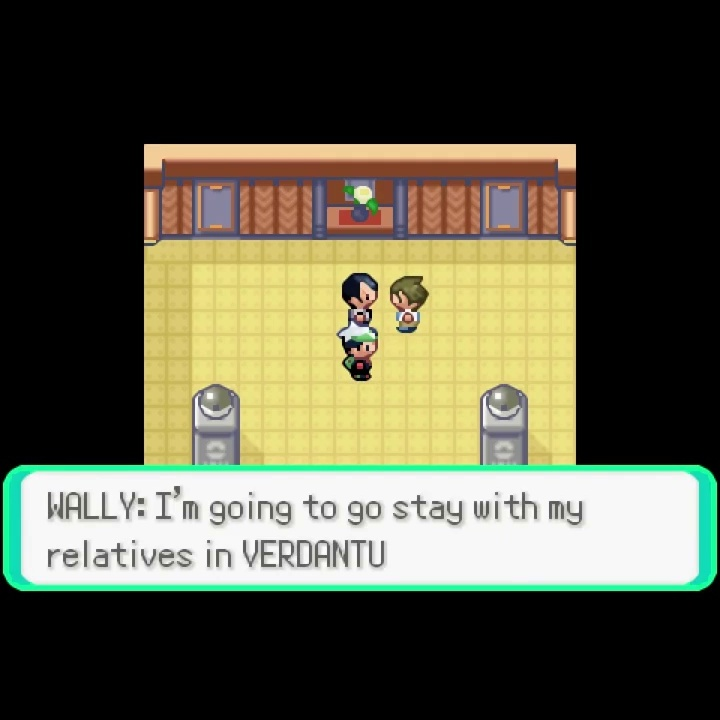npc: (386, 273, 432, 336), (335, 321, 380, 384), (340, 272, 380, 323)
